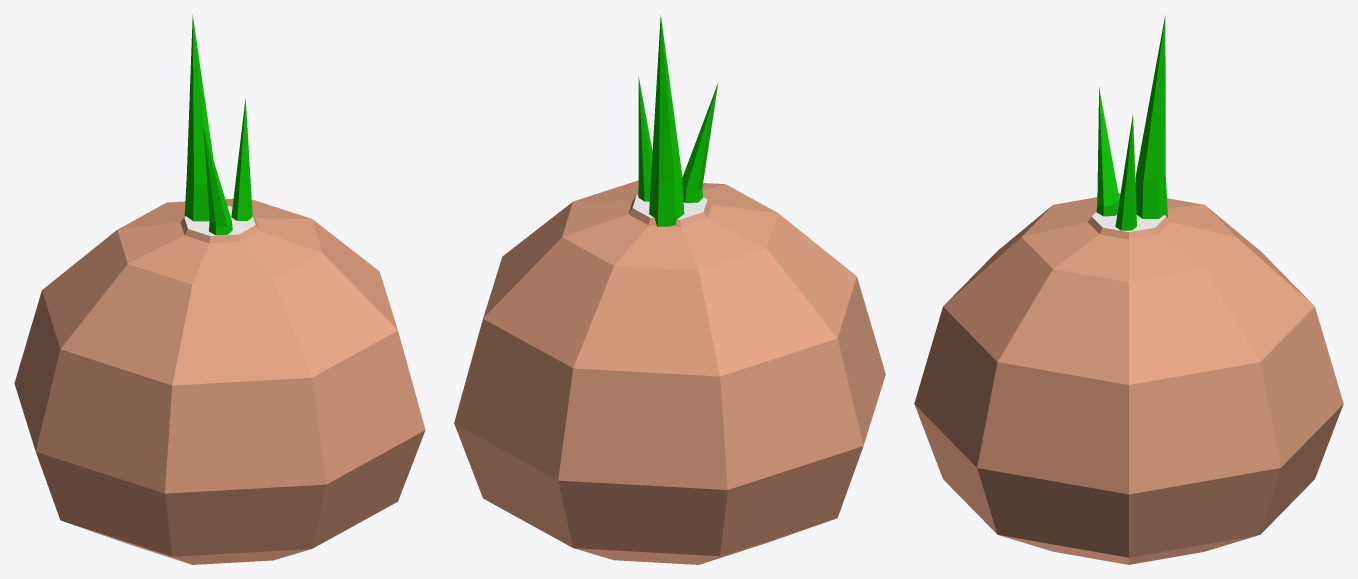
The model's file is onion.glb.
The picture shows the model from 3 angles, left to right: view 1: azimuth 30°, elevation 25°; view 2: azimuth 150°, elevation 25°; view 3: azimuth 270°, elevation 25°; orthographic projection. The views are drawn at different scales.
Visible parts, largest first — view 1: Sphere; view 2: Sphere; view 3: Sphere.
Part boxes in pixels (x1,y1,x2,y2): Sphere: (14, 15, 425, 564); Sphere: (454, 15, 885, 564); Sphere: (914, 15, 1343, 564).
Size of the model in its own units: 2 by 2.67 by 2.
